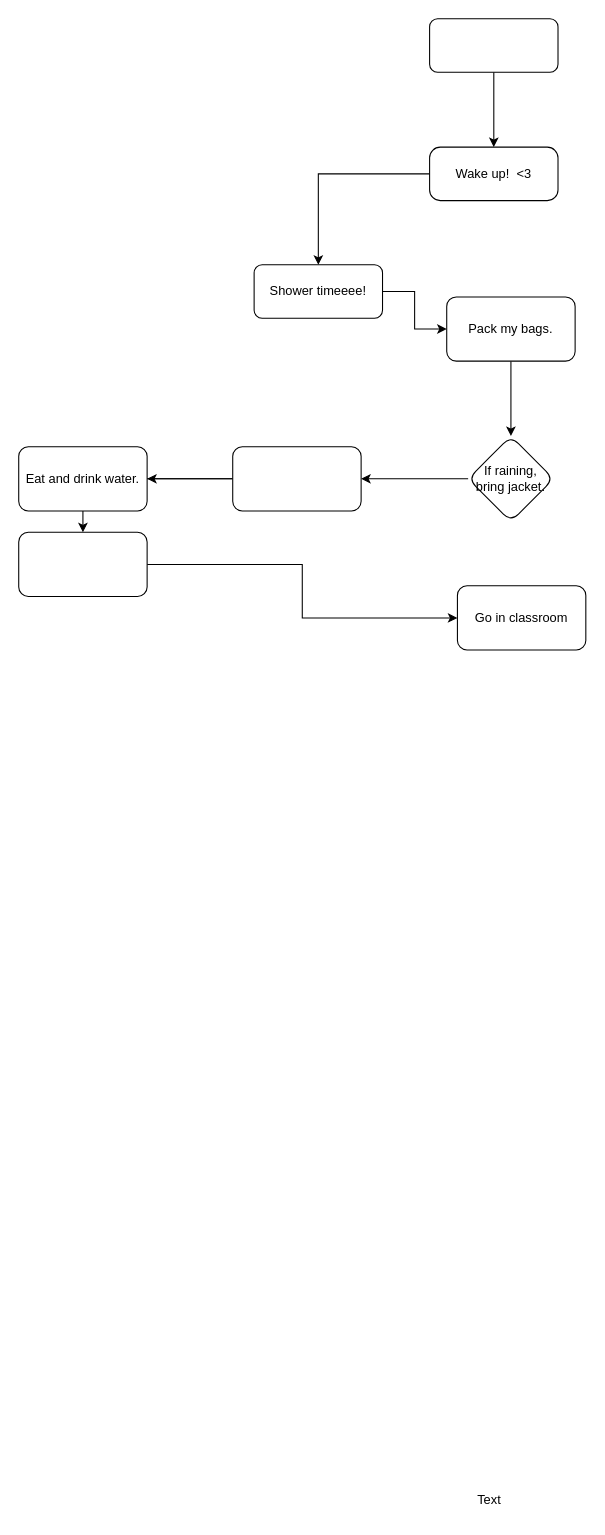
Some shapes in this 605 by 1535 pixel diagram are drawn without their labels. Each missing label, with the centre of its shape:
Get in my car.: point 296,478
Reach school.: point 82,564
Start of the DAY!: point 493,45
